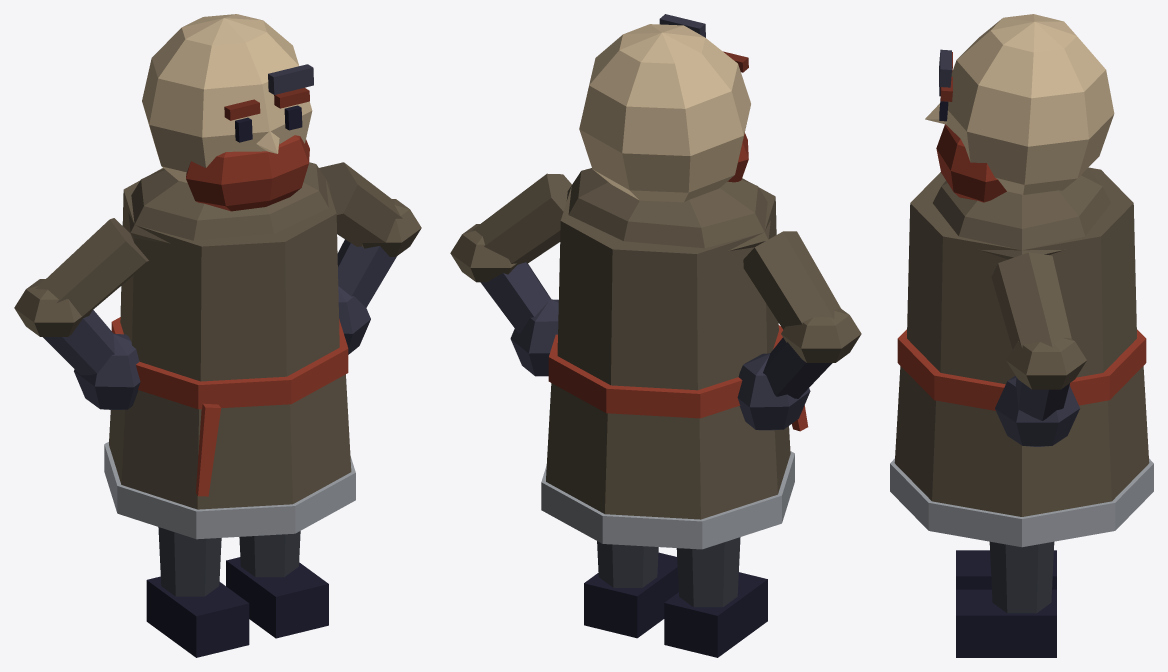
Rendered from abe.glb.
3 views of the same model, side by side, from view 1: azimuth 30°, elevation 25°; view 2: azimuth 150°, elevation 25°; view 3: azimuth 270°, elevation 25° (orthographic).
Parts seen in each view (by area): view 1: Torso, Head, ArmR, LegR, ArmL, LegL; view 2: Torso, Head, ArmR, ArmL, LegR, LegL; view 3: Torso, Head, ArmL, LegL, LegR.
Boxes of the visible parts, x1=… form: Torso: x1=104, y1=162, x2=355, y2=539; Head: x1=142, y1=14, x2=313, y2=211; ArmR: x1=14, y1=218, x2=148, y2=409; LegR: x1=146, y1=527, x2=249, y2=657; ArmL: x1=319, y1=162, x2=421, y2=354; LegL: x1=226, y1=531, x2=328, y2=638; Torso: x1=541, y1=168, x2=808, y2=549; Head: x1=579, y1=14, x2=750, y2=202; ArmR: x1=737, y1=231, x2=861, y2=430; ArmL: x1=450, y1=173, x2=571, y2=376; LegR: x1=664, y1=537, x2=767, y2=657; LegL: x1=584, y1=541, x2=678, y2=638; Torso: x1=890, y1=167, x2=1153, y2=547; Head: x1=925, y1=14, x2=1114, y2=202; ArmL: x1=991, y1=252, x2=1086, y2=446; LegL: x1=956, y1=541, x2=1056, y2=657; LegR: x1=956, y1=550, x2=1056, y2=589.
Bounding box in the file's own units: 1.2 × 1.77 × 0.7004.
